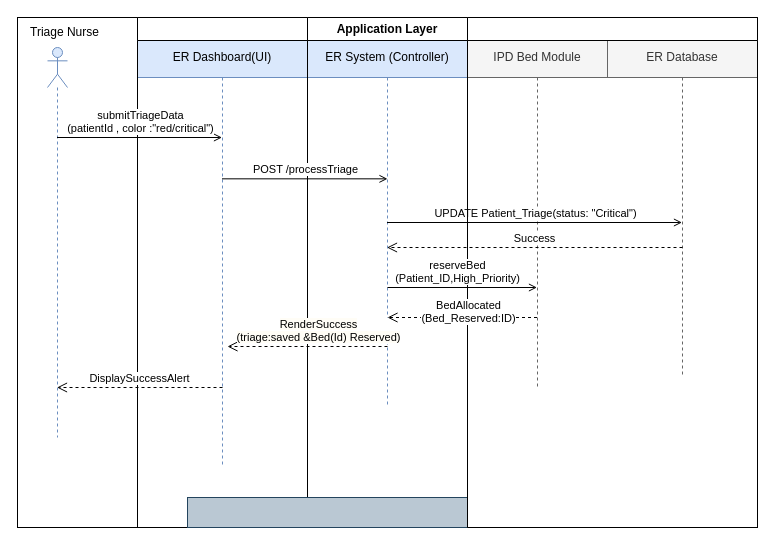
Image size: 775x545. Some labels were removed from this diagram. Each missing label, with the box of its shape:
Data Layer: (466, 16, 758, 528)
Presentation Layer: (136, 16, 308, 528)
Triage Color Assignment & Bed Allocation: (186, 496, 468, 528)
